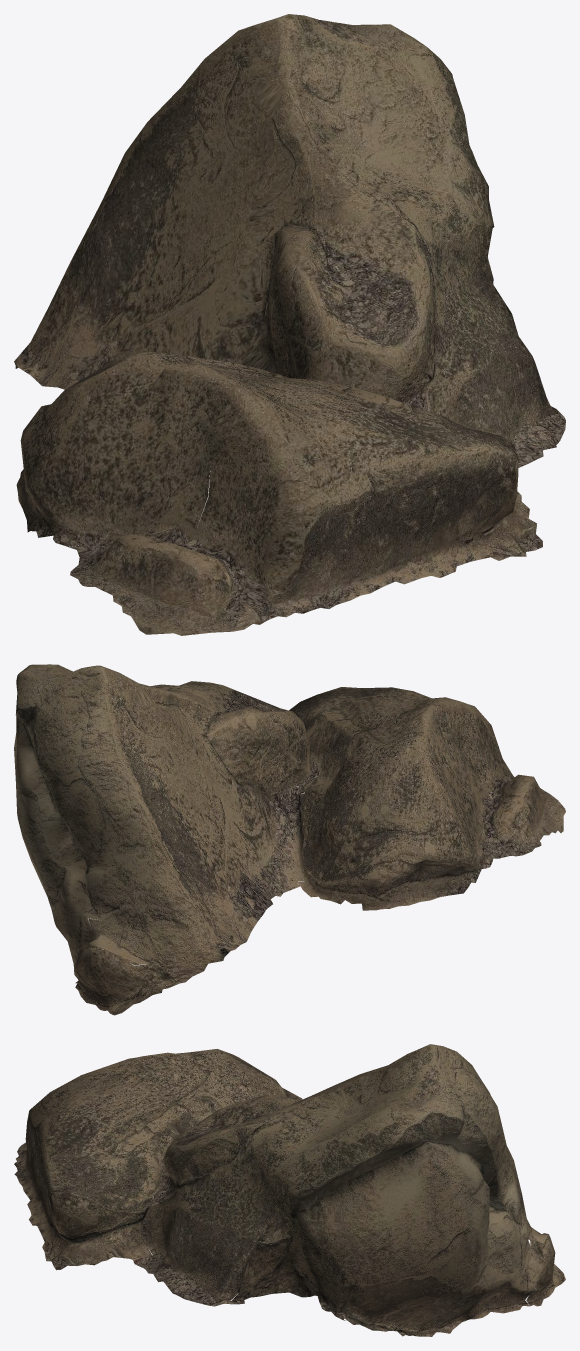
Rendered from boulder1.glb.
3 views of the same model, one above another, from view 1: azimuth 30°, elevation 25°; view 2: azimuth 150°, elevation 25°; view 3: azimuth 270°, elevation 25° (orthographic). The views are drawn at different scales.
Parts seen in each view (by area): view 1: Rock Dry River PBR Scan Part 01; view 2: Rock Dry River PBR Scan Part 01; view 3: Rock Dry River PBR Scan Part 01.
Boxes of the visible parts, x1,y1,x2,y2 form: Rock Dry River PBR Scan Part 01: (14, 14, 565, 635); Rock Dry River PBR Scan Part 01: (14, 664, 565, 1015); Rock Dry River PBR Scan Part 01: (14, 1044, 565, 1336).
Bounding box in the file's own units: 4.16 × 2.86 × 5.06.
Materials: 1 (1 with a texture image).
